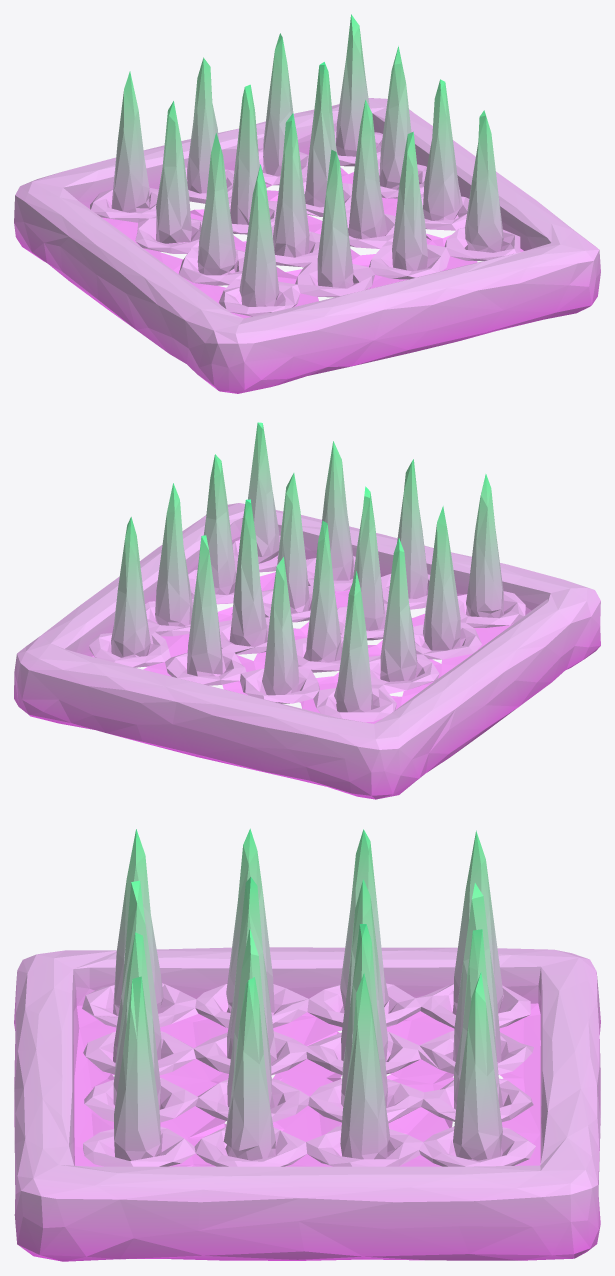
File: 179_cyb_laser_gradient_fish_scales_2762_2026_10_03_5340f8.glb
3 renders of one model, top to bottom at view 1: azimuth 30°, elevation 25°; view 2: azimuth 150°, elevation 25°; view 3: azimuth 270°, elevation 25°, orthographic. The views are drawn at different scales.
Visible parts, largest first — view 1: geometry_0; view 2: geometry_0; view 3: geometry_0.
Boxes of the visible parts, x1=… form: geometry_0: x1=14, y1=14, x2=600, y2=393; geometry_0: x1=14, y1=422, x2=600, y2=799; geometry_0: x1=14, y1=828, x2=600, y2=1261.
Size of the model in its own units: 1 by 0.4626 by 1.
